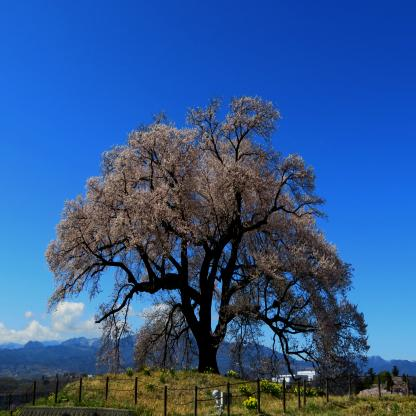EdohiganSakura: (44, 93, 374, 378)
